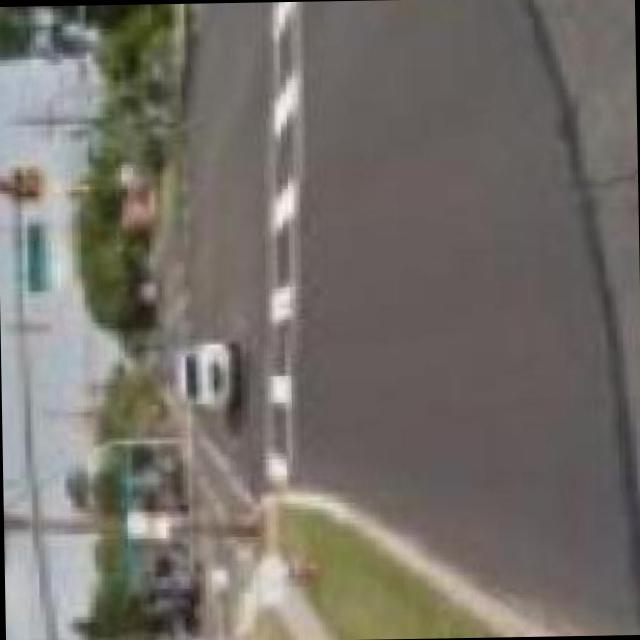zebra: (258, 7, 304, 485)
